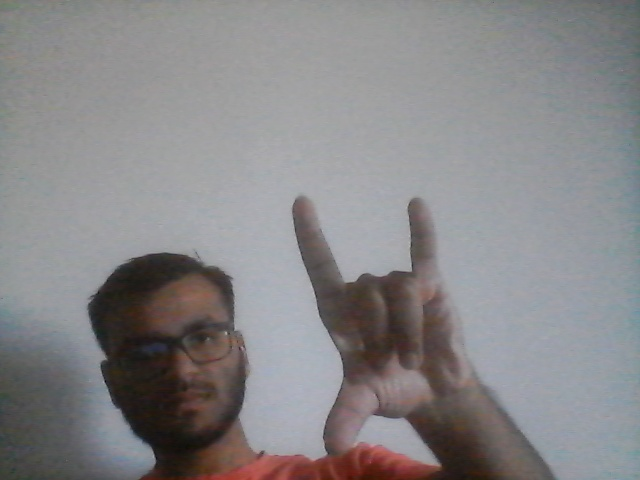I Love You: (283, 186, 485, 458)
